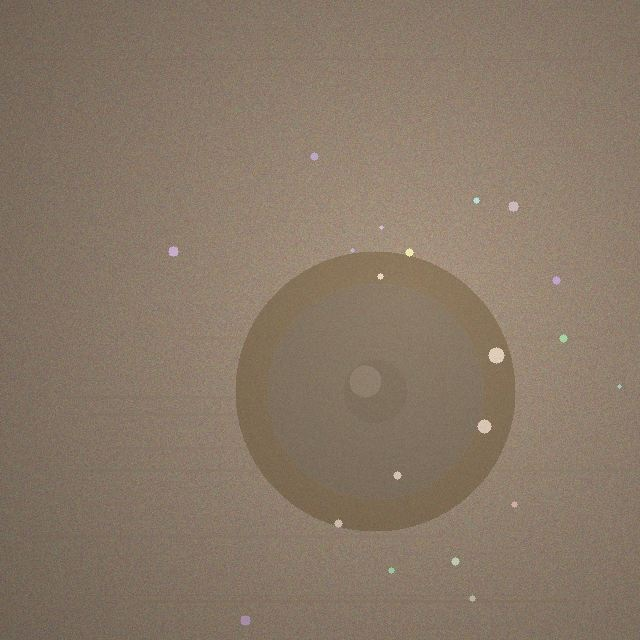overburn: (235, 251, 515, 531)
